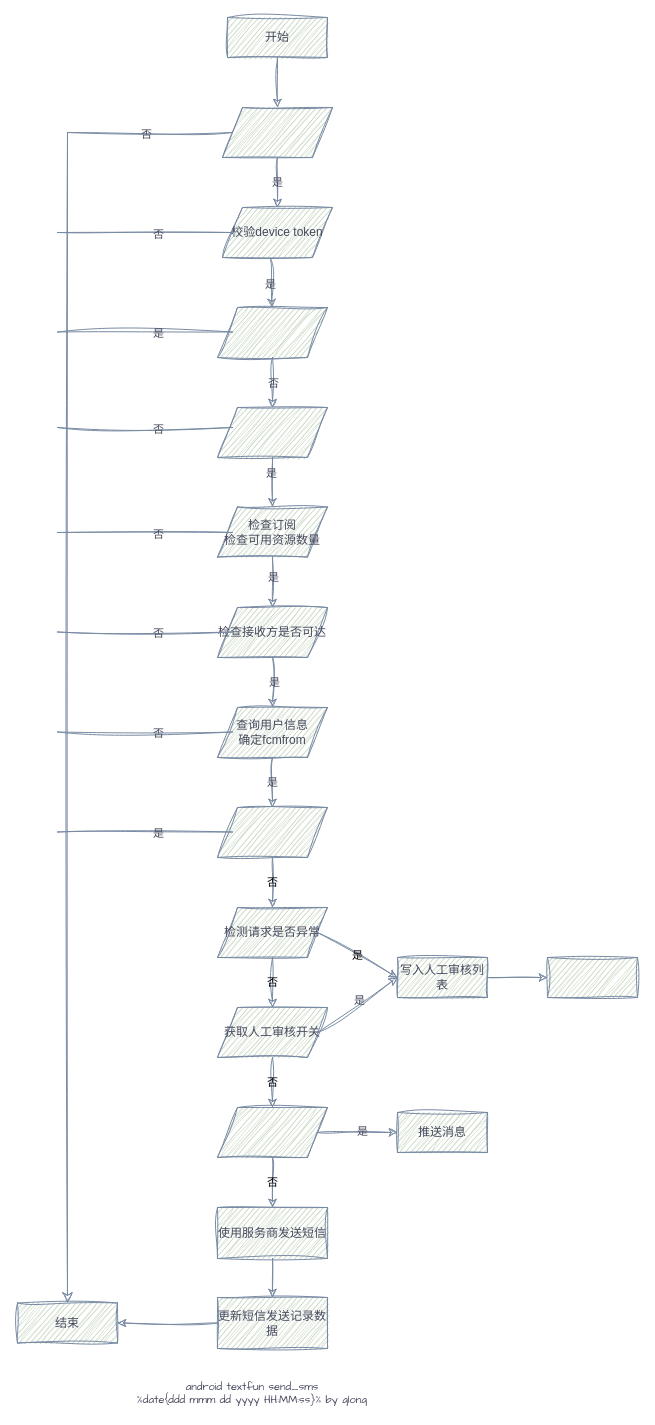
This 655x1425 diagram has some shape labels left out. The box of each missing label's shape, as (x1, y1, x2, y2) in pixels:
判断接收方是否我方用户: (216, 1106, 328, 1158)
放行: (546, 956, 638, 998)
敏感词检测: (216, 806, 328, 858)
校验参数: (222, 106, 332, 158)
检查号码账号注册/ 检查号码服务: (216, 406, 328, 458)
用户是否被屏蔽: (216, 306, 328, 358)
